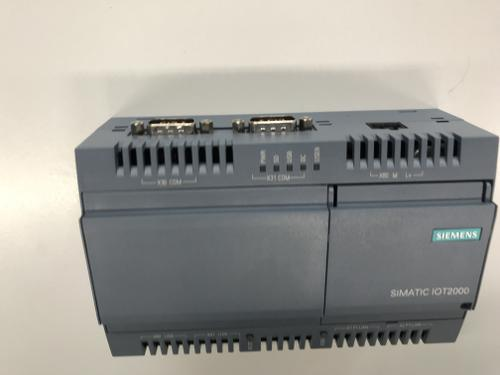device: (75, 109, 500, 358)
